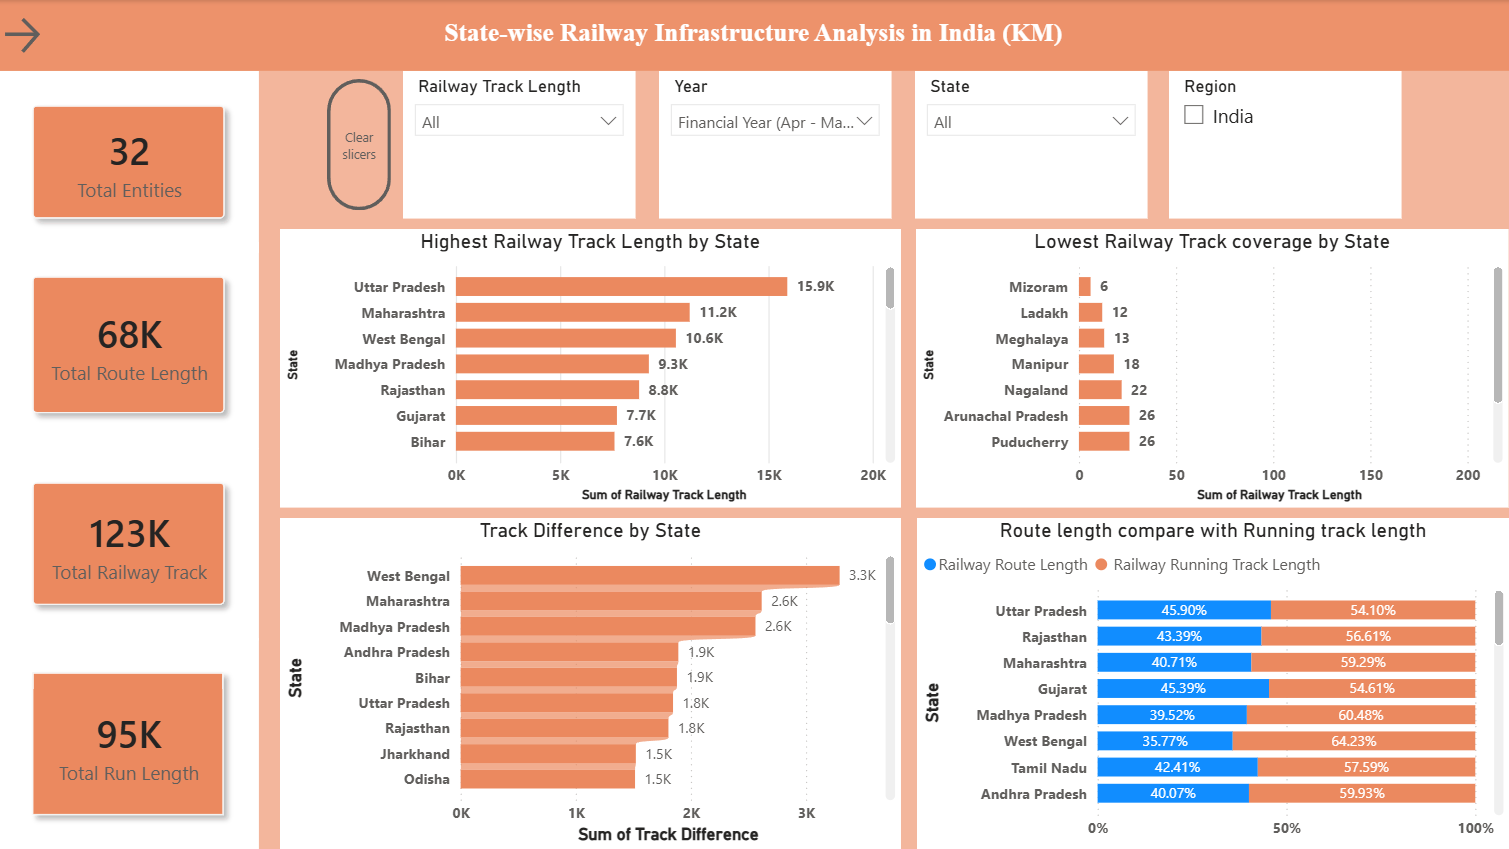

The dashboard page shown, as its layout file describes it:
{"tool":"powerbi","page":{"name":"Page 1","canvas":[1280,720],"ordinal":0},"visuals":[{"type":"textbox","box":[0,0,1280,60.3],"z":0},{"type":"barChart","title":" Highest Railway Track Length by State","fields":{"Category":["Statewise Railway Track.State"],"Y":["Sum(Statewise Railway Track.Railway Track Length)"]},"box":[239,194,526,236],"z":1000},{"type":"barChart","title":"Lowest Railway Track coverage by State","fields":{"Category":["Statewise Railway Track.State"],"Y":["Sum(Statewise Railway Track.Railway Track Length)"]},"box":[778,194,502,236],"z":2000},{"type":"hundredPercentStackedBarChart","title":"Route length compare with Running track length","fields":{"Category":["Statewise Railway Track.State"],"Y":["Sum(Statewise Railway Track.Railway Route Length)","Sum(Statewise Railway Track.Railway Running Track Length)"]},"box":[778.1,438.7,501.9,281.1],"z":3000},{"type":"barChart","title":" Track Difference by State","fields":{"Category":["Statewise Railway Track.State"],"Y":["Sum(Statewise Railway Track.Track Difference)"]},"box":[239,439,526,281],"z":4000},{"type":"actionButton","box":[0,10.4,100.1,39.7],"z":5000},{"type":"cardVisual","fields":{"Data":["Count(Statewise Railway Track.State)"]},"box":[0,59.9,221,154.2],"z":6000},{"type":"cardVisual","fields":{"Data":["Statewise Railway Track.Total Railway Track"]},"box":[0,379.5,221.1,162.6],"z":7000},{"type":"cardVisual","fields":{"Data":["Statewise Railway Track.Total Route Length"]},"box":[0,205.3,221,174.9],"z":8000},{"type":"cardVisual","fields":{"Data":["Statewise Railway Track.Total Running Track Length"]},"box":[0,540.8,220.7,179],"z":9000},{"type":"slicer","fields":{"Values":["Statewise Railway Track.State"]},"box":[777.1,60.4,196.7,125.1],"z":10000},{"type":"slicer","fields":{"Values":["Statewise Railway Track.Year"]},"box":[559.8,60.4,196.7,125.1],"z":11000},{"type":"slicer","fields":{"Values":["Statewise Railway Track.Country"]},"box":[991.9,60.4,196.7,125.1],"z":12000},{"type":"slicer","fields":{"Values":["Statewise Railway Track.Railway Track Length"]},"box":[343.3,60.4,196.7,125.1],"z":13000},{"type":"actionButton","box":[278.6,67.3,54.3,111.3],"z":14000}]}

Visuals, with their boxes in screenshot pixels (x1, y1, x2, y2), scaled from the page's 1280x720 canvas onto the 1509x849 screenshot:
textbox: (left=0, top=0, right=1508, bottom=71)
" Highest Railway Track Length by State" barChart: (left=282, top=229, right=902, bottom=507)
"Lowest Railway Track coverage by State" barChart: (left=917, top=229, right=1508, bottom=507)
"Route length compare with Running track length" hundredPercentStackedBarChart: (left=917, top=517, right=1508, bottom=848)
" Track Difference by State" barChart: (left=282, top=518, right=902, bottom=848)
actionButton: (left=0, top=12, right=118, bottom=59)
cardVisual - Count(Statewise Railway Track.State): (left=0, top=71, right=261, bottom=252)
cardVisual - Statewise Railway Track.Total Railway Track: (left=0, top=447, right=261, bottom=639)
cardVisual - Statewise Railway Track.Total Route Length: (left=0, top=242, right=261, bottom=448)
cardVisual - Statewise Railway Track.Total Running Track Length: (left=0, top=638, right=260, bottom=848)
slicer - Statewise Railway Track.State: (left=916, top=71, right=1148, bottom=219)
slicer - Statewise Railway Track.Year: (left=660, top=71, right=892, bottom=219)
slicer - Statewise Railway Track.Country: (left=1169, top=71, right=1401, bottom=219)
slicer - Statewise Railway Track.Railway Track Length: (left=405, top=71, right=637, bottom=219)
actionButton: (left=328, top=79, right=392, bottom=211)
